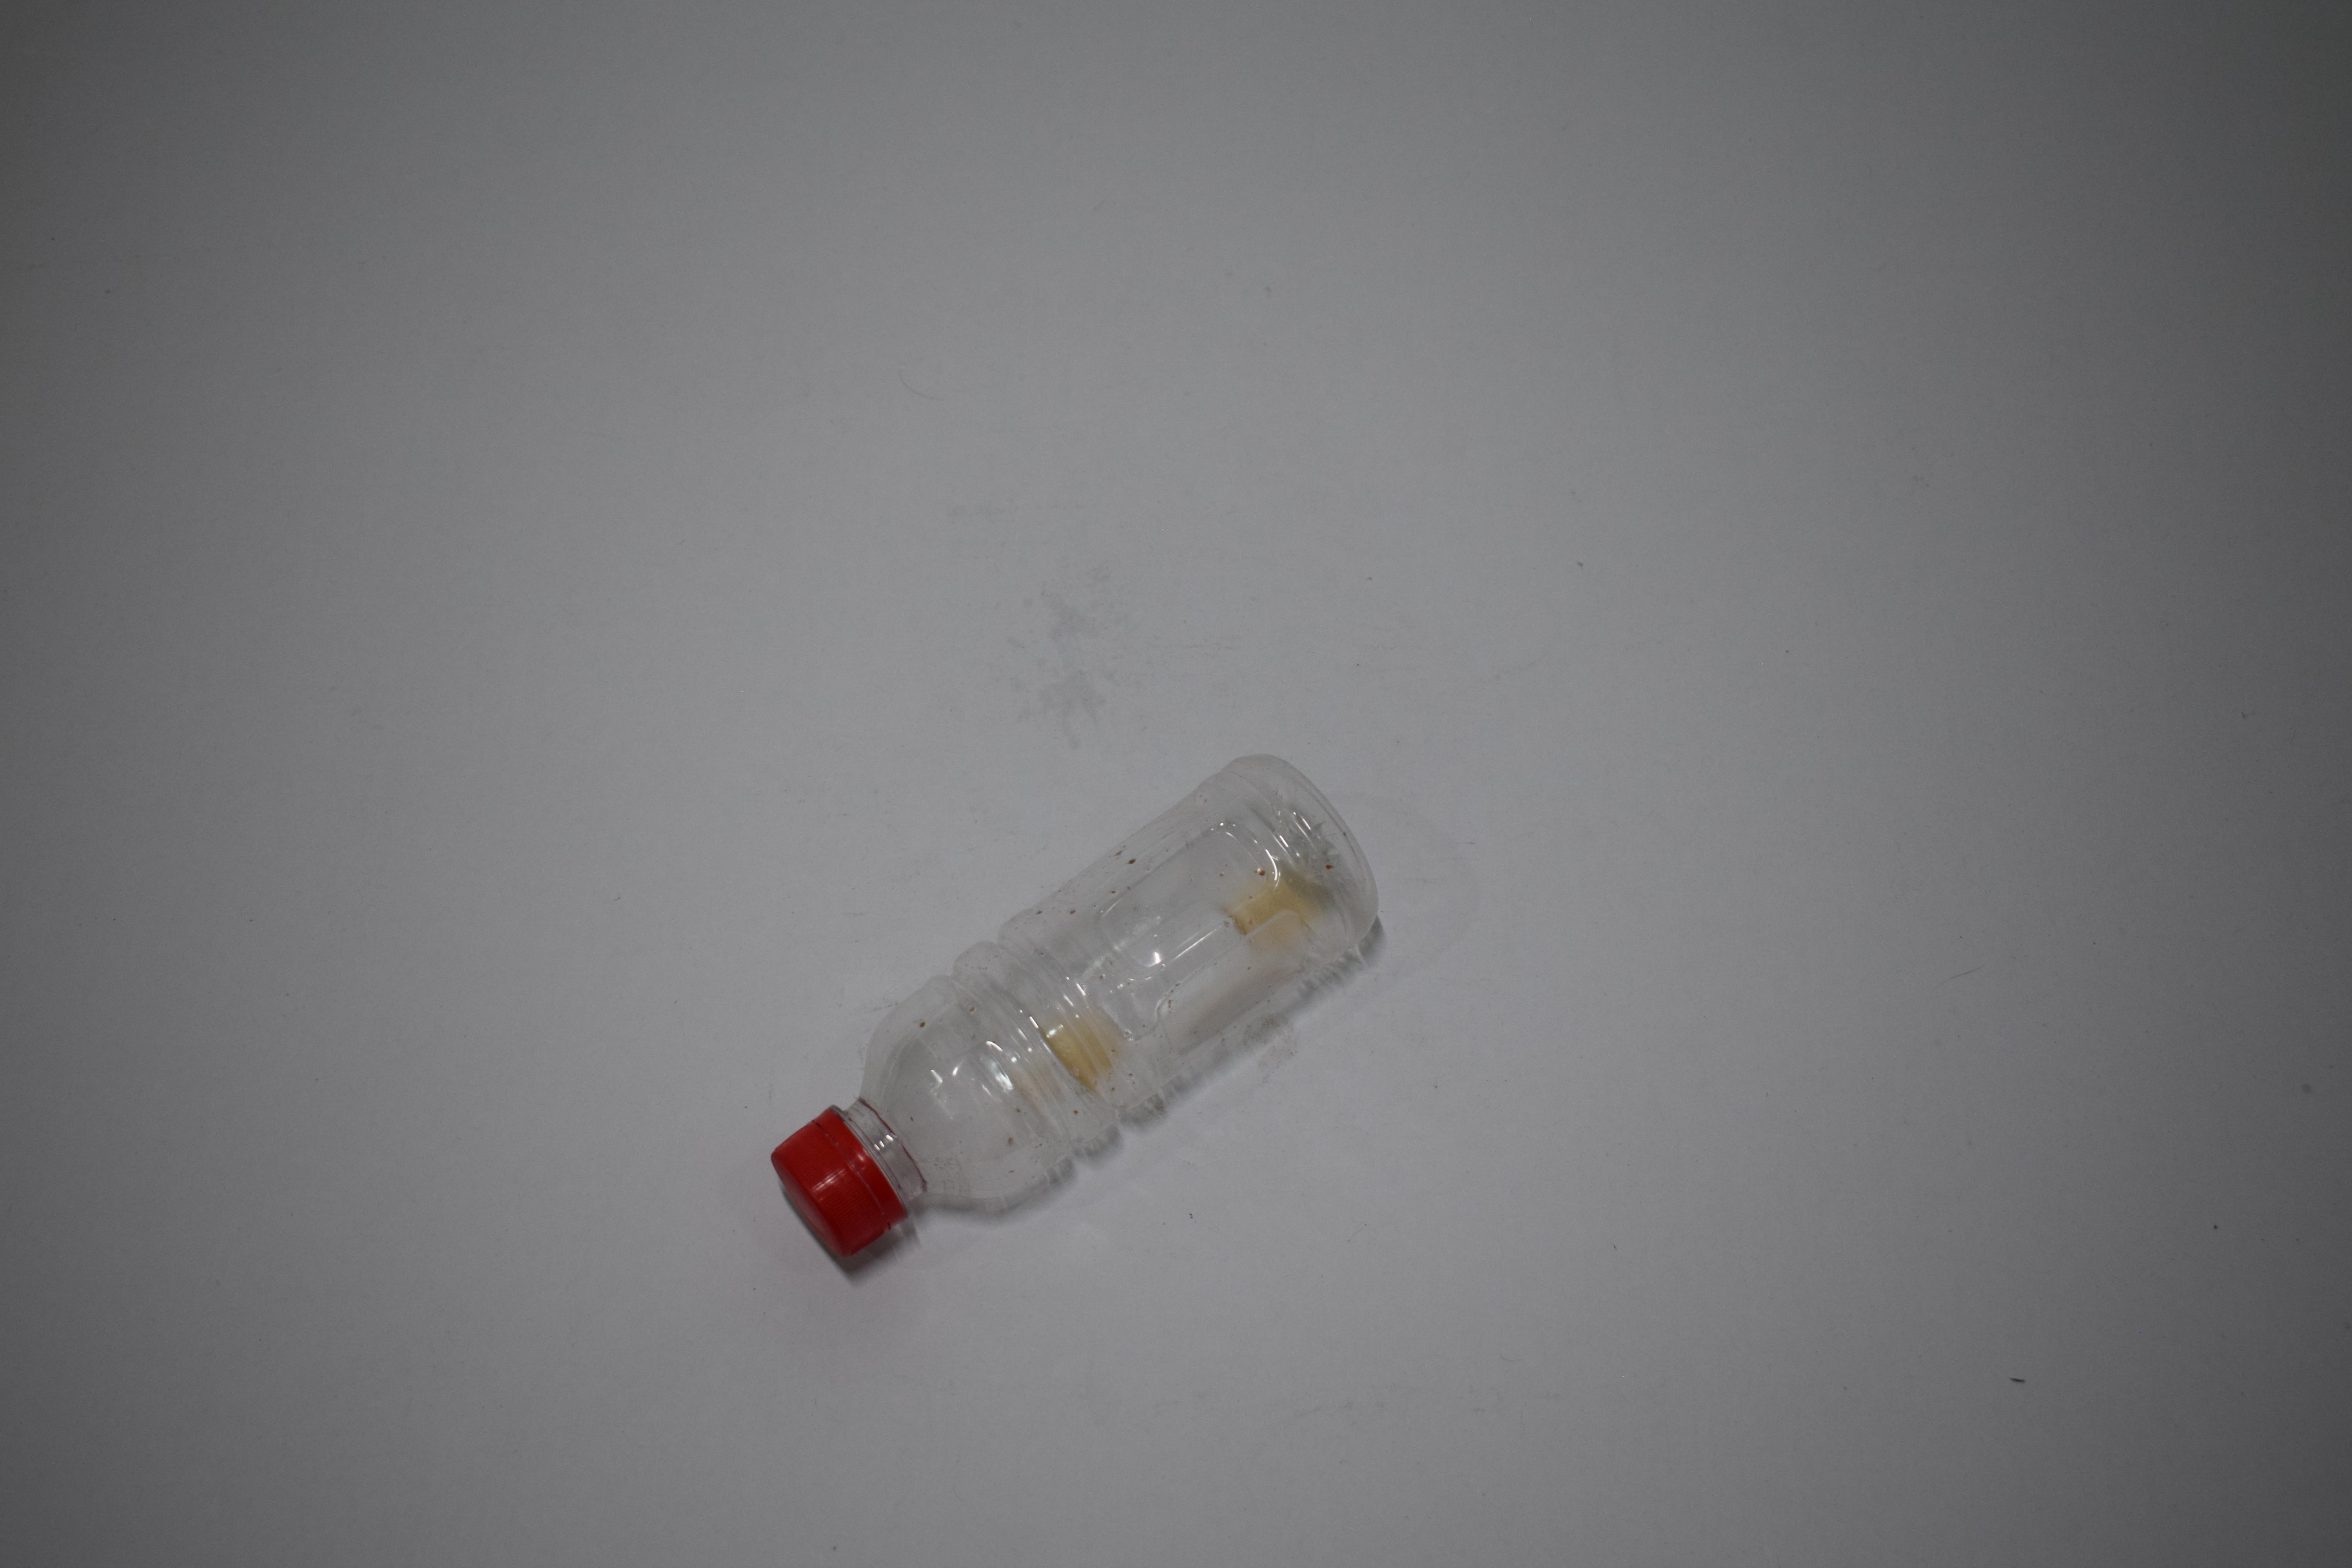bottle: (647, 779, 1274, 1249)
